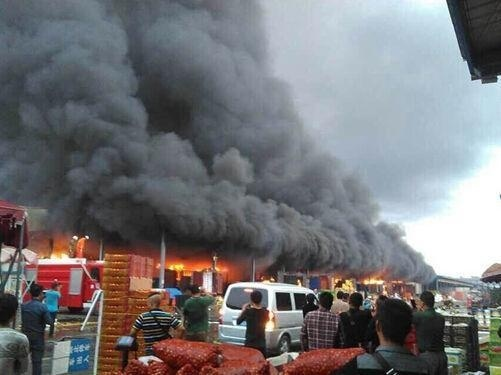fire: (363, 272, 386, 285)
